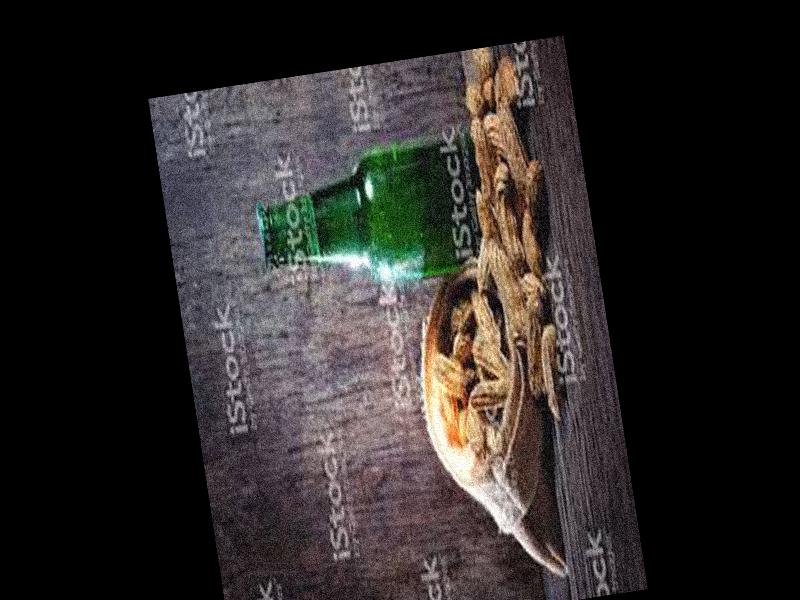Beer: (247, 133, 509, 306)
